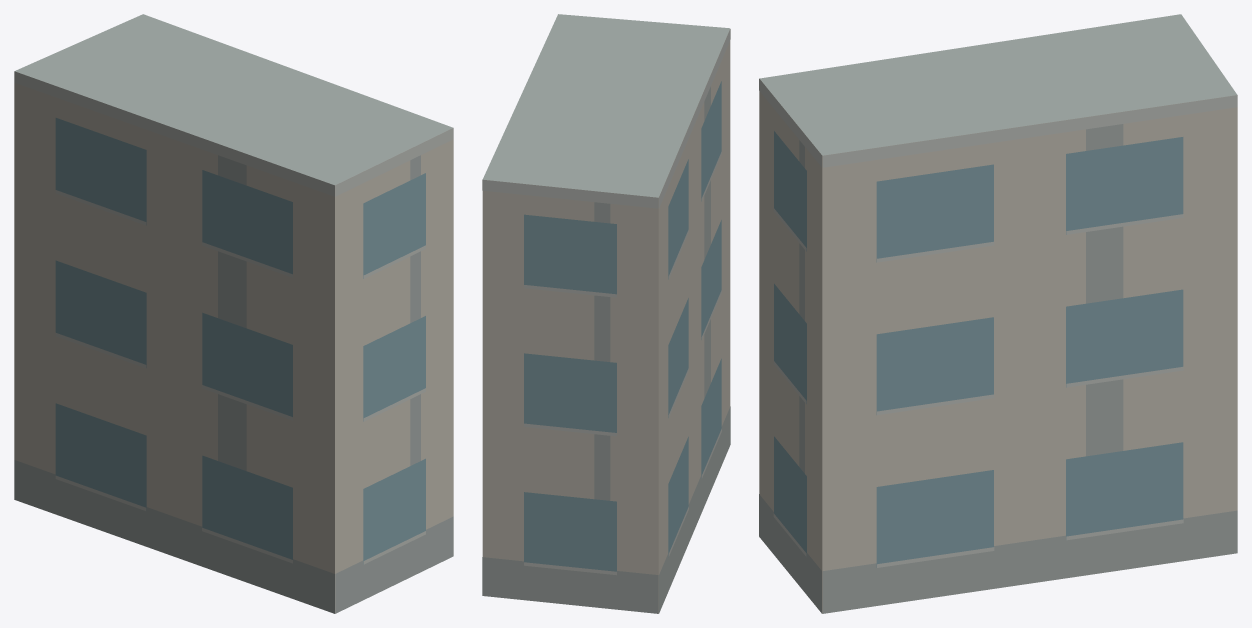
The model's file is survey-upis-32538150.glb.
3 views of the same model, side by side, from view 1: azimuth 30°, elevation 25°; view 2: azimuth 150°, elevation 25°; view 3: azimuth 270°, elevation 25° (orthographic). The views are drawn at different scales.
Parts seen in each view (by area): view 1: survey-upis-32538150.tmp; view 2: survey-upis-32538150.tmp; view 3: survey-upis-32538150.tmp.
Boxes of the visible parts, x1,y1,x2,y2 form: survey-upis-32538150.tmp: (14,14,453,613); survey-upis-32538150.tmp: (482,14,730,613); survey-upis-32538150.tmp: (759,14,1237,613).
Bounding box in the file's own units: 6.08 × 9.15 × 8.67.
